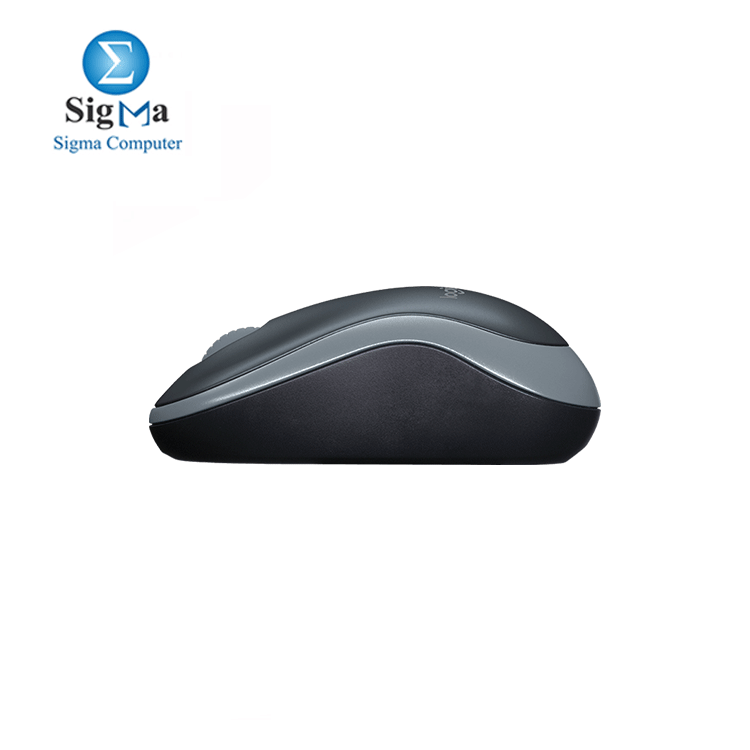logitech-mouse-m185: (142, 272, 614, 481)
